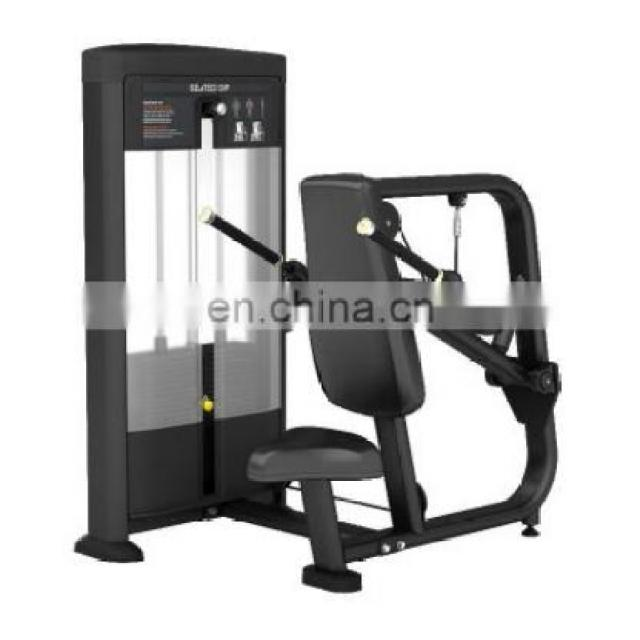seated dip machine: (70, 41, 564, 592)
